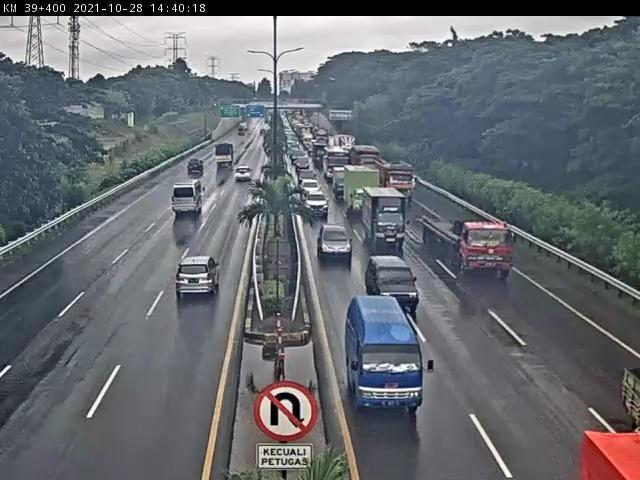bus: (342, 293, 444, 425)
